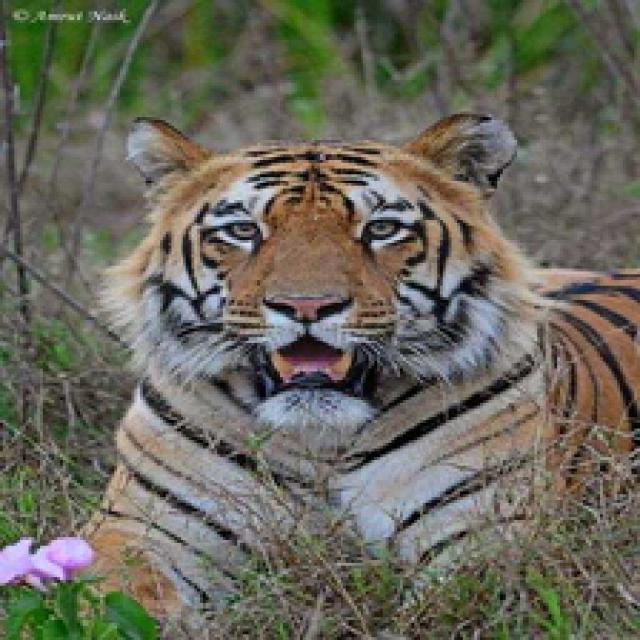tiger: (7, 105, 640, 640)
